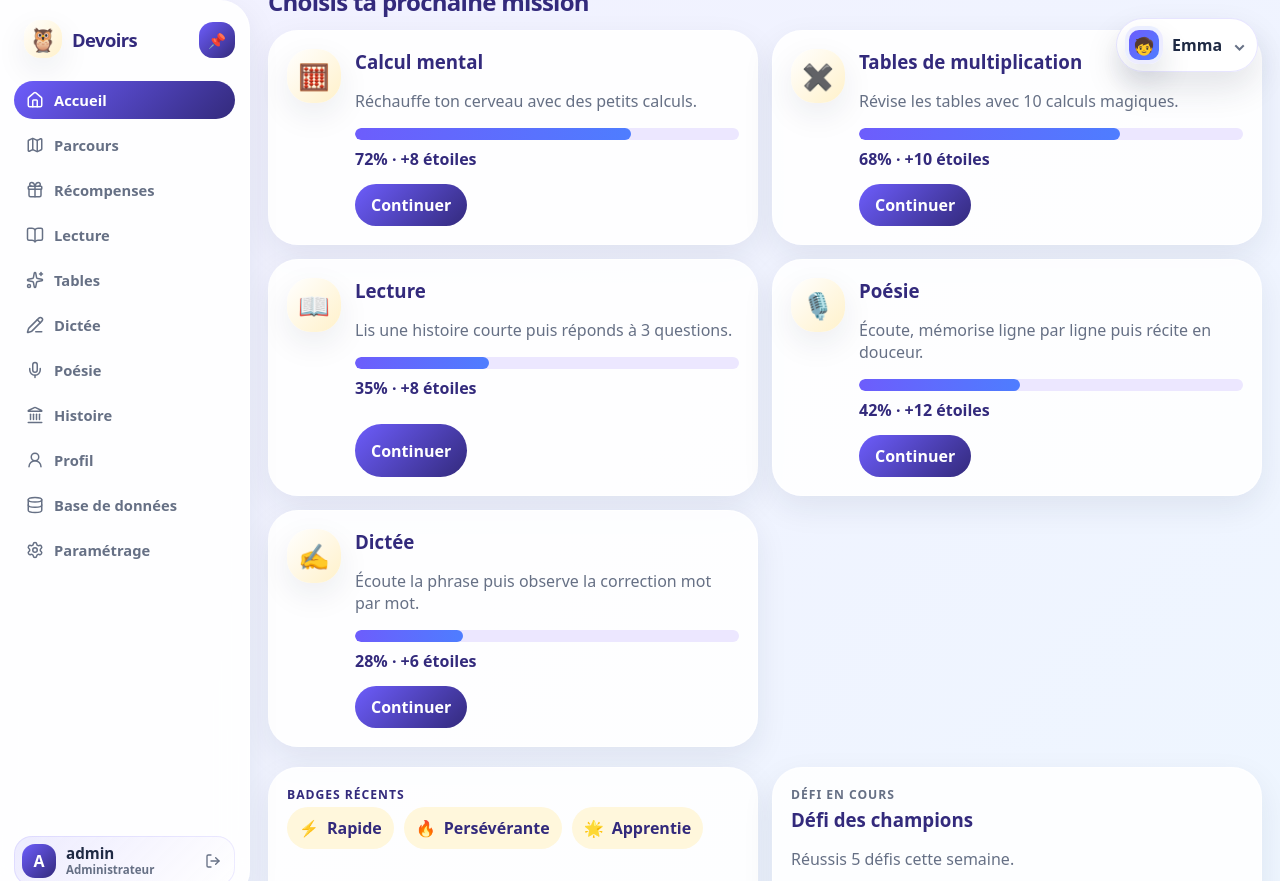
Test: Lot 4 dictation and poetry UI › shows the updated reading text-size menu ranges including XXL
(page scrolled)
Expected: the element "Lecture" is shown, [268,259,758,496]
Click the button "Continuer" below "35" at {"x": 411, "y": 450}, box [355,424,467,477]
(page scrolled)
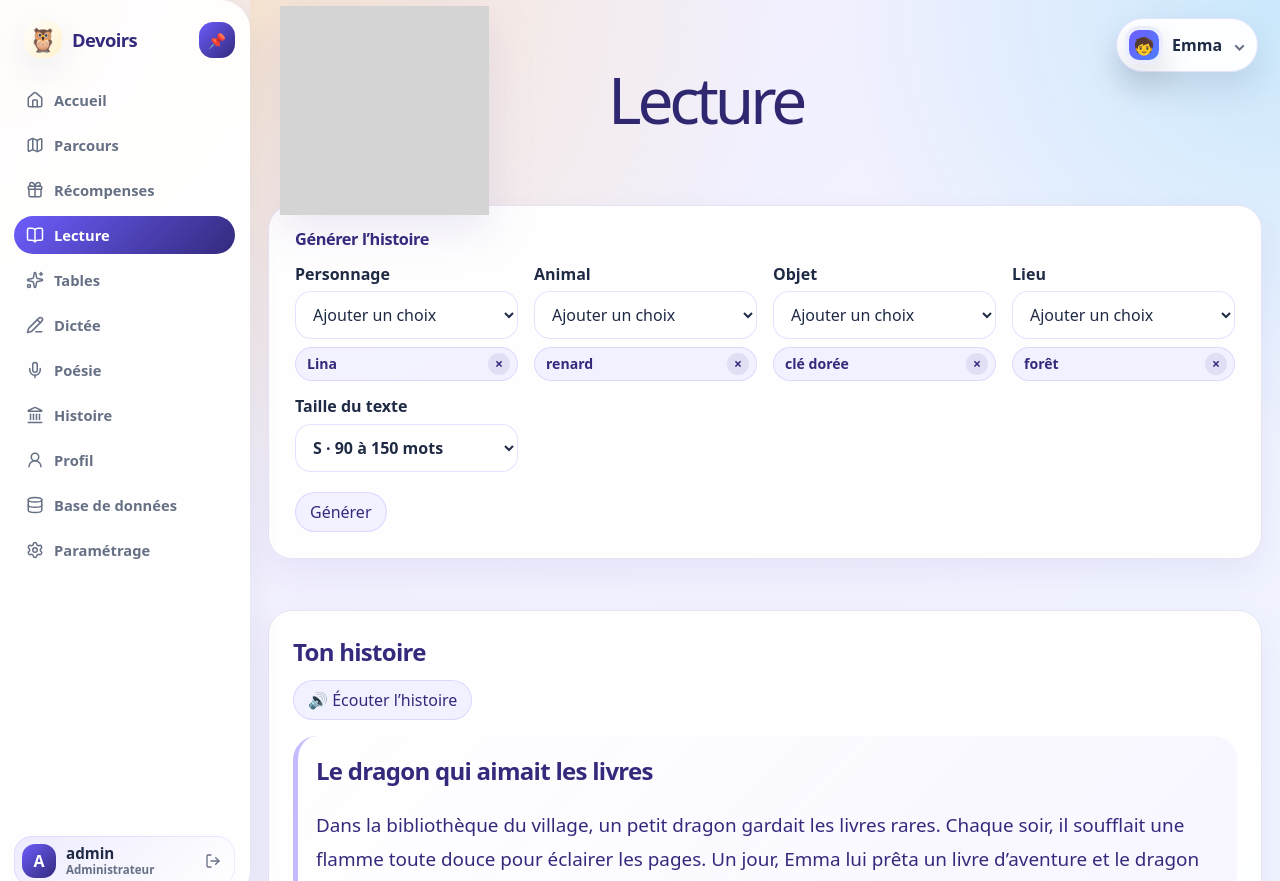
Expected: the element named "génération ia de l’histoire" does not show "bloc 1", [268,205,1262,559]
Expected: the element named "génération ia de l’histoire" shows "Générer l’histoire", [295,228,429,250]
Select "Noé" in the dropdown named "choisir un personnage" at {"x": 406, "y": 315}, box [295,291,518,339]
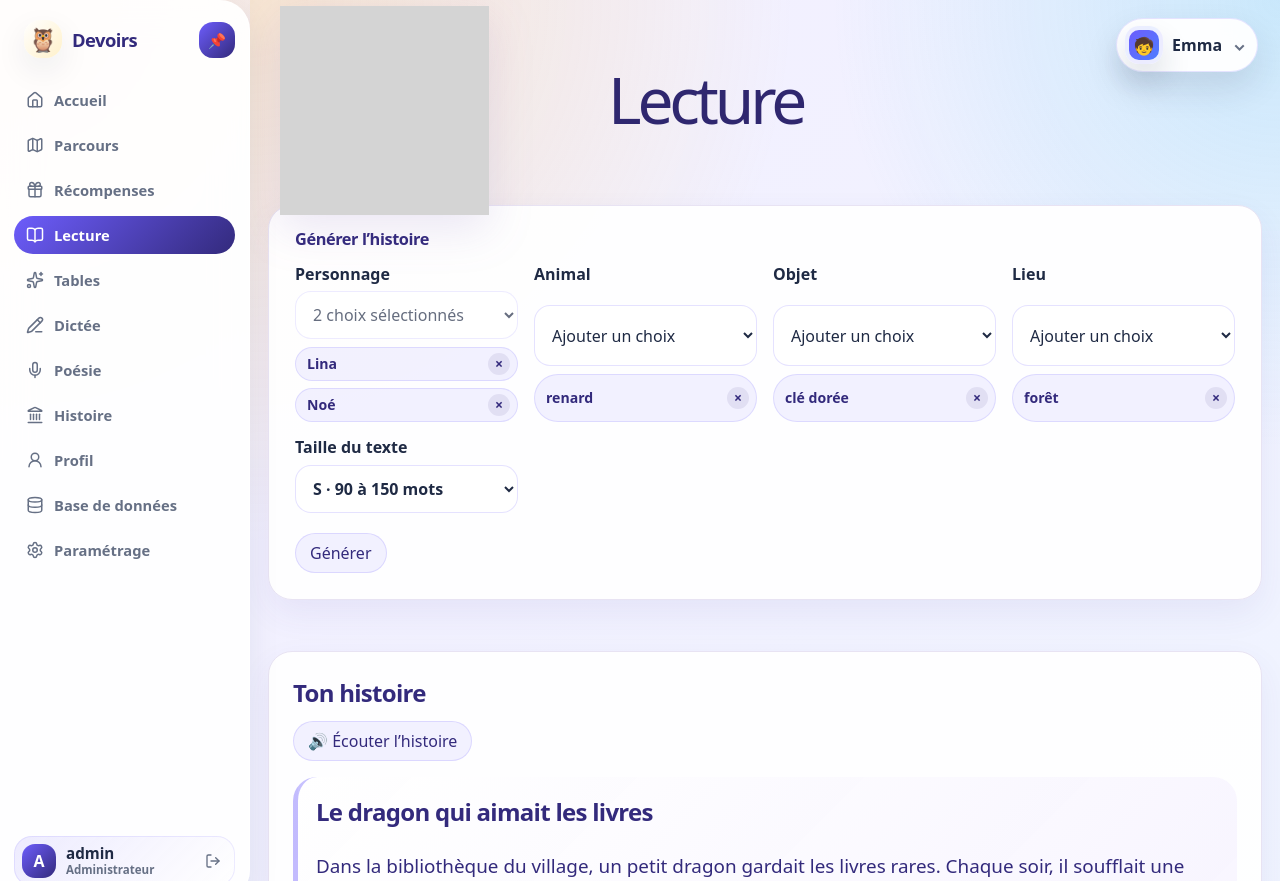
Expected: the dropdown named "choisir un personnage" is disabled, [295,291,518,339]
Click the button named "supprimer noé" at {"x": 499, "y": 405}, box [488,394,510,416]
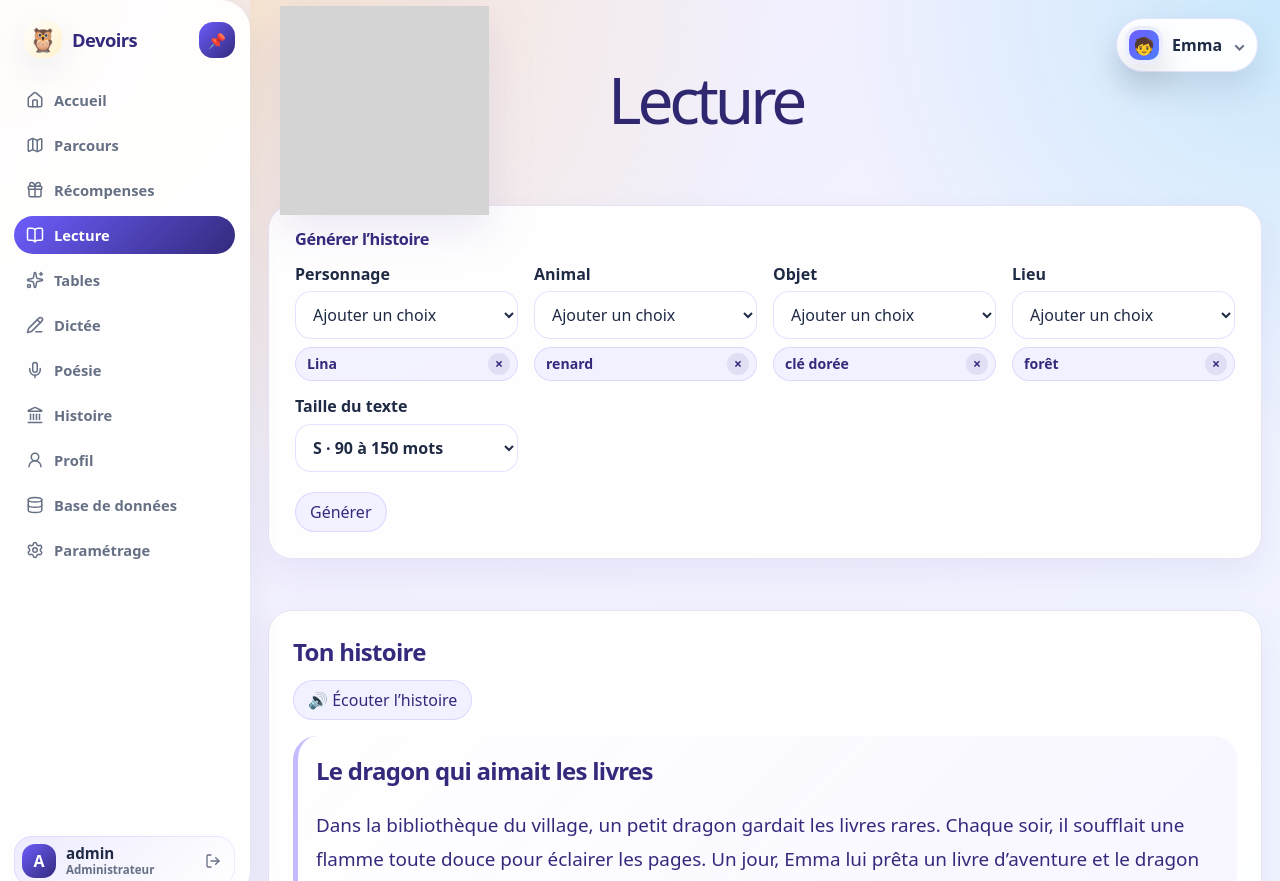
Expected: the dropdown named "choisir un personnage" is enabled, [295,291,518,339]
Select "skateboard volant" in the dropdown named "choisir un objet" at {"x": 884, "y": 315}, box [773,291,996,339]
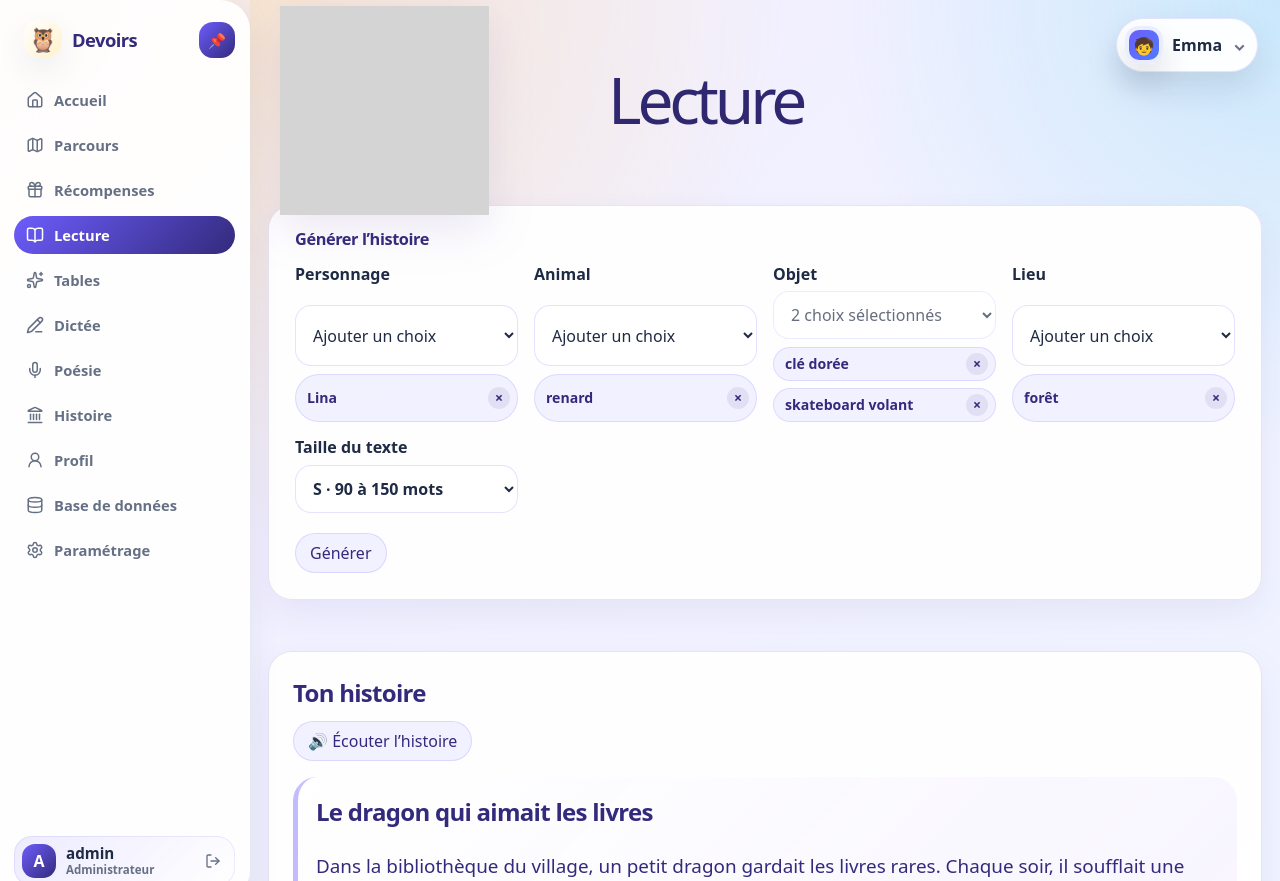
Expected: the text "skateboard volant" is shown, [785,395,913,414]
Select "station lunaire" in the dropdown named "choisir un lieu" at {"x": 1124, "y": 336}, box [1012,305,1235,366]
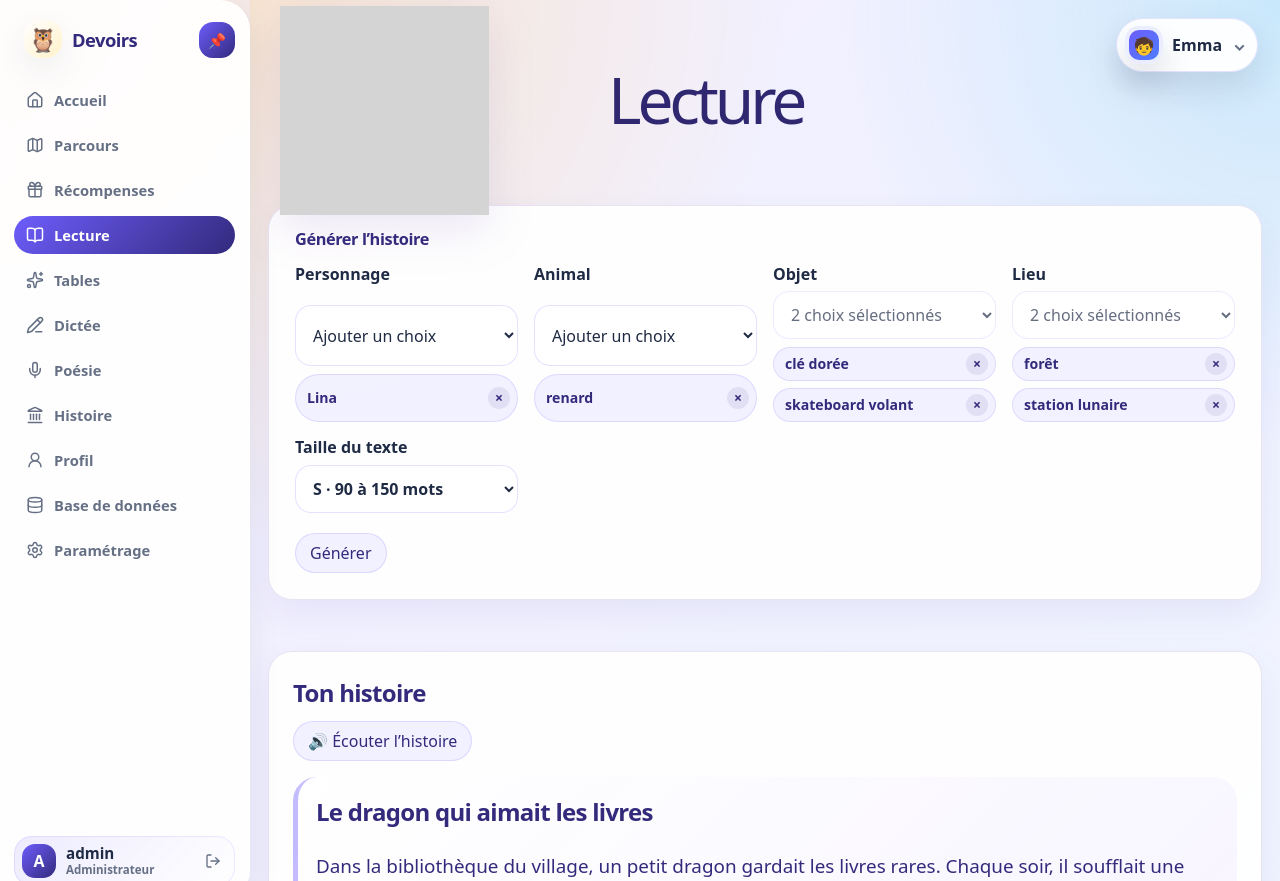
Expected: the text "station lunaire" is shown, [1024,395,1128,414]
